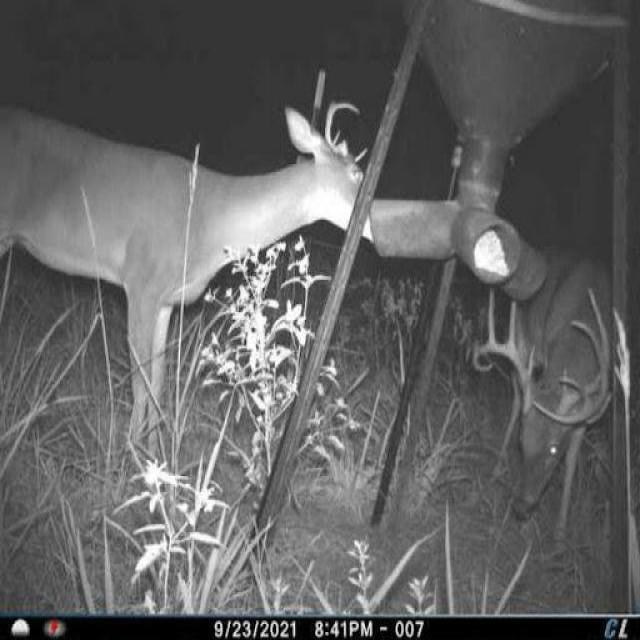deer: (1, 88, 372, 476), (475, 233, 621, 563)
